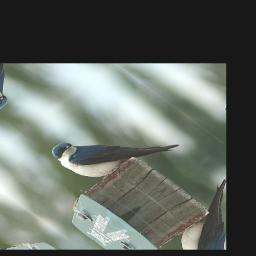Swallow: (45, 99, 181, 199)
